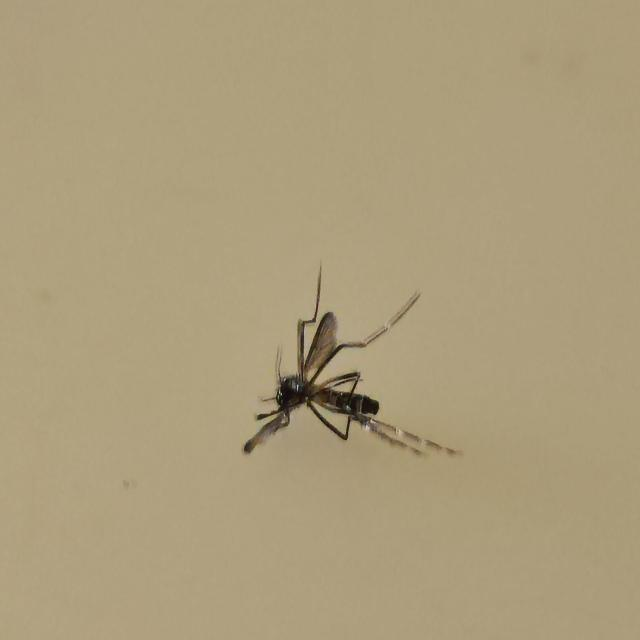albopictus: (242, 253, 453, 469)
